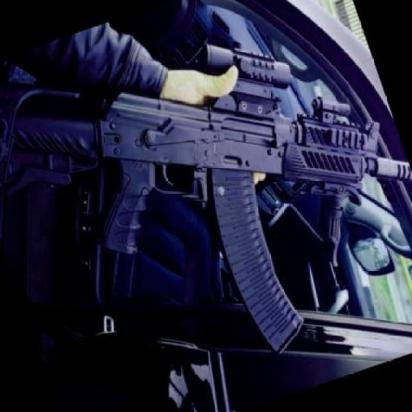Gun: (67, 0, 412, 339)
